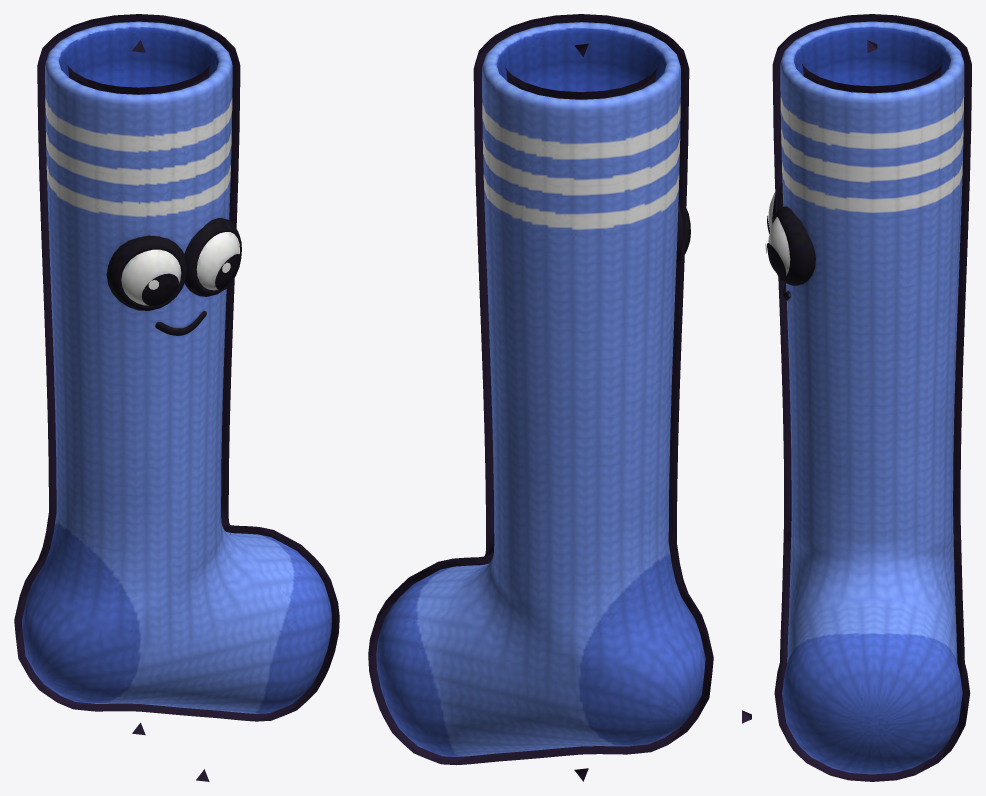
File: KneeHigh_R.glb
3 views of the same model, side by side, from view 1: azimuth 30°, elevation 25°; view 2: azimuth 150°, elevation 25°; view 3: azimuth 270°, elevation 25° (orthographic). The views are drawn at different scales.
Visible parts, largest first — view 1: KneeHigh_R, KneeHigh_R_Outline; view 2: KneeHigh_R, KneeHigh_R_Outline; view 3: KneeHigh_R, KneeHigh_R_Outline.
Boxes of the visible parts, <box> form: KneeHigh_R: <box>22,21,331,713</box>; KneeHigh_R_Outline: <box>14,14,339,721</box>; KneeHigh_R: <box>376,22,705,756</box>; KneeHigh_R_Outline: <box>368,14,713,765</box>; KneeHigh_R: <box>765,21,964,774</box>; KneeHigh_R_Outline: <box>772,14,971,781</box>.
Size of the model in its own units: 2.68 by 6 by 1.83.
Materials: 2 (2 with a texture image).
